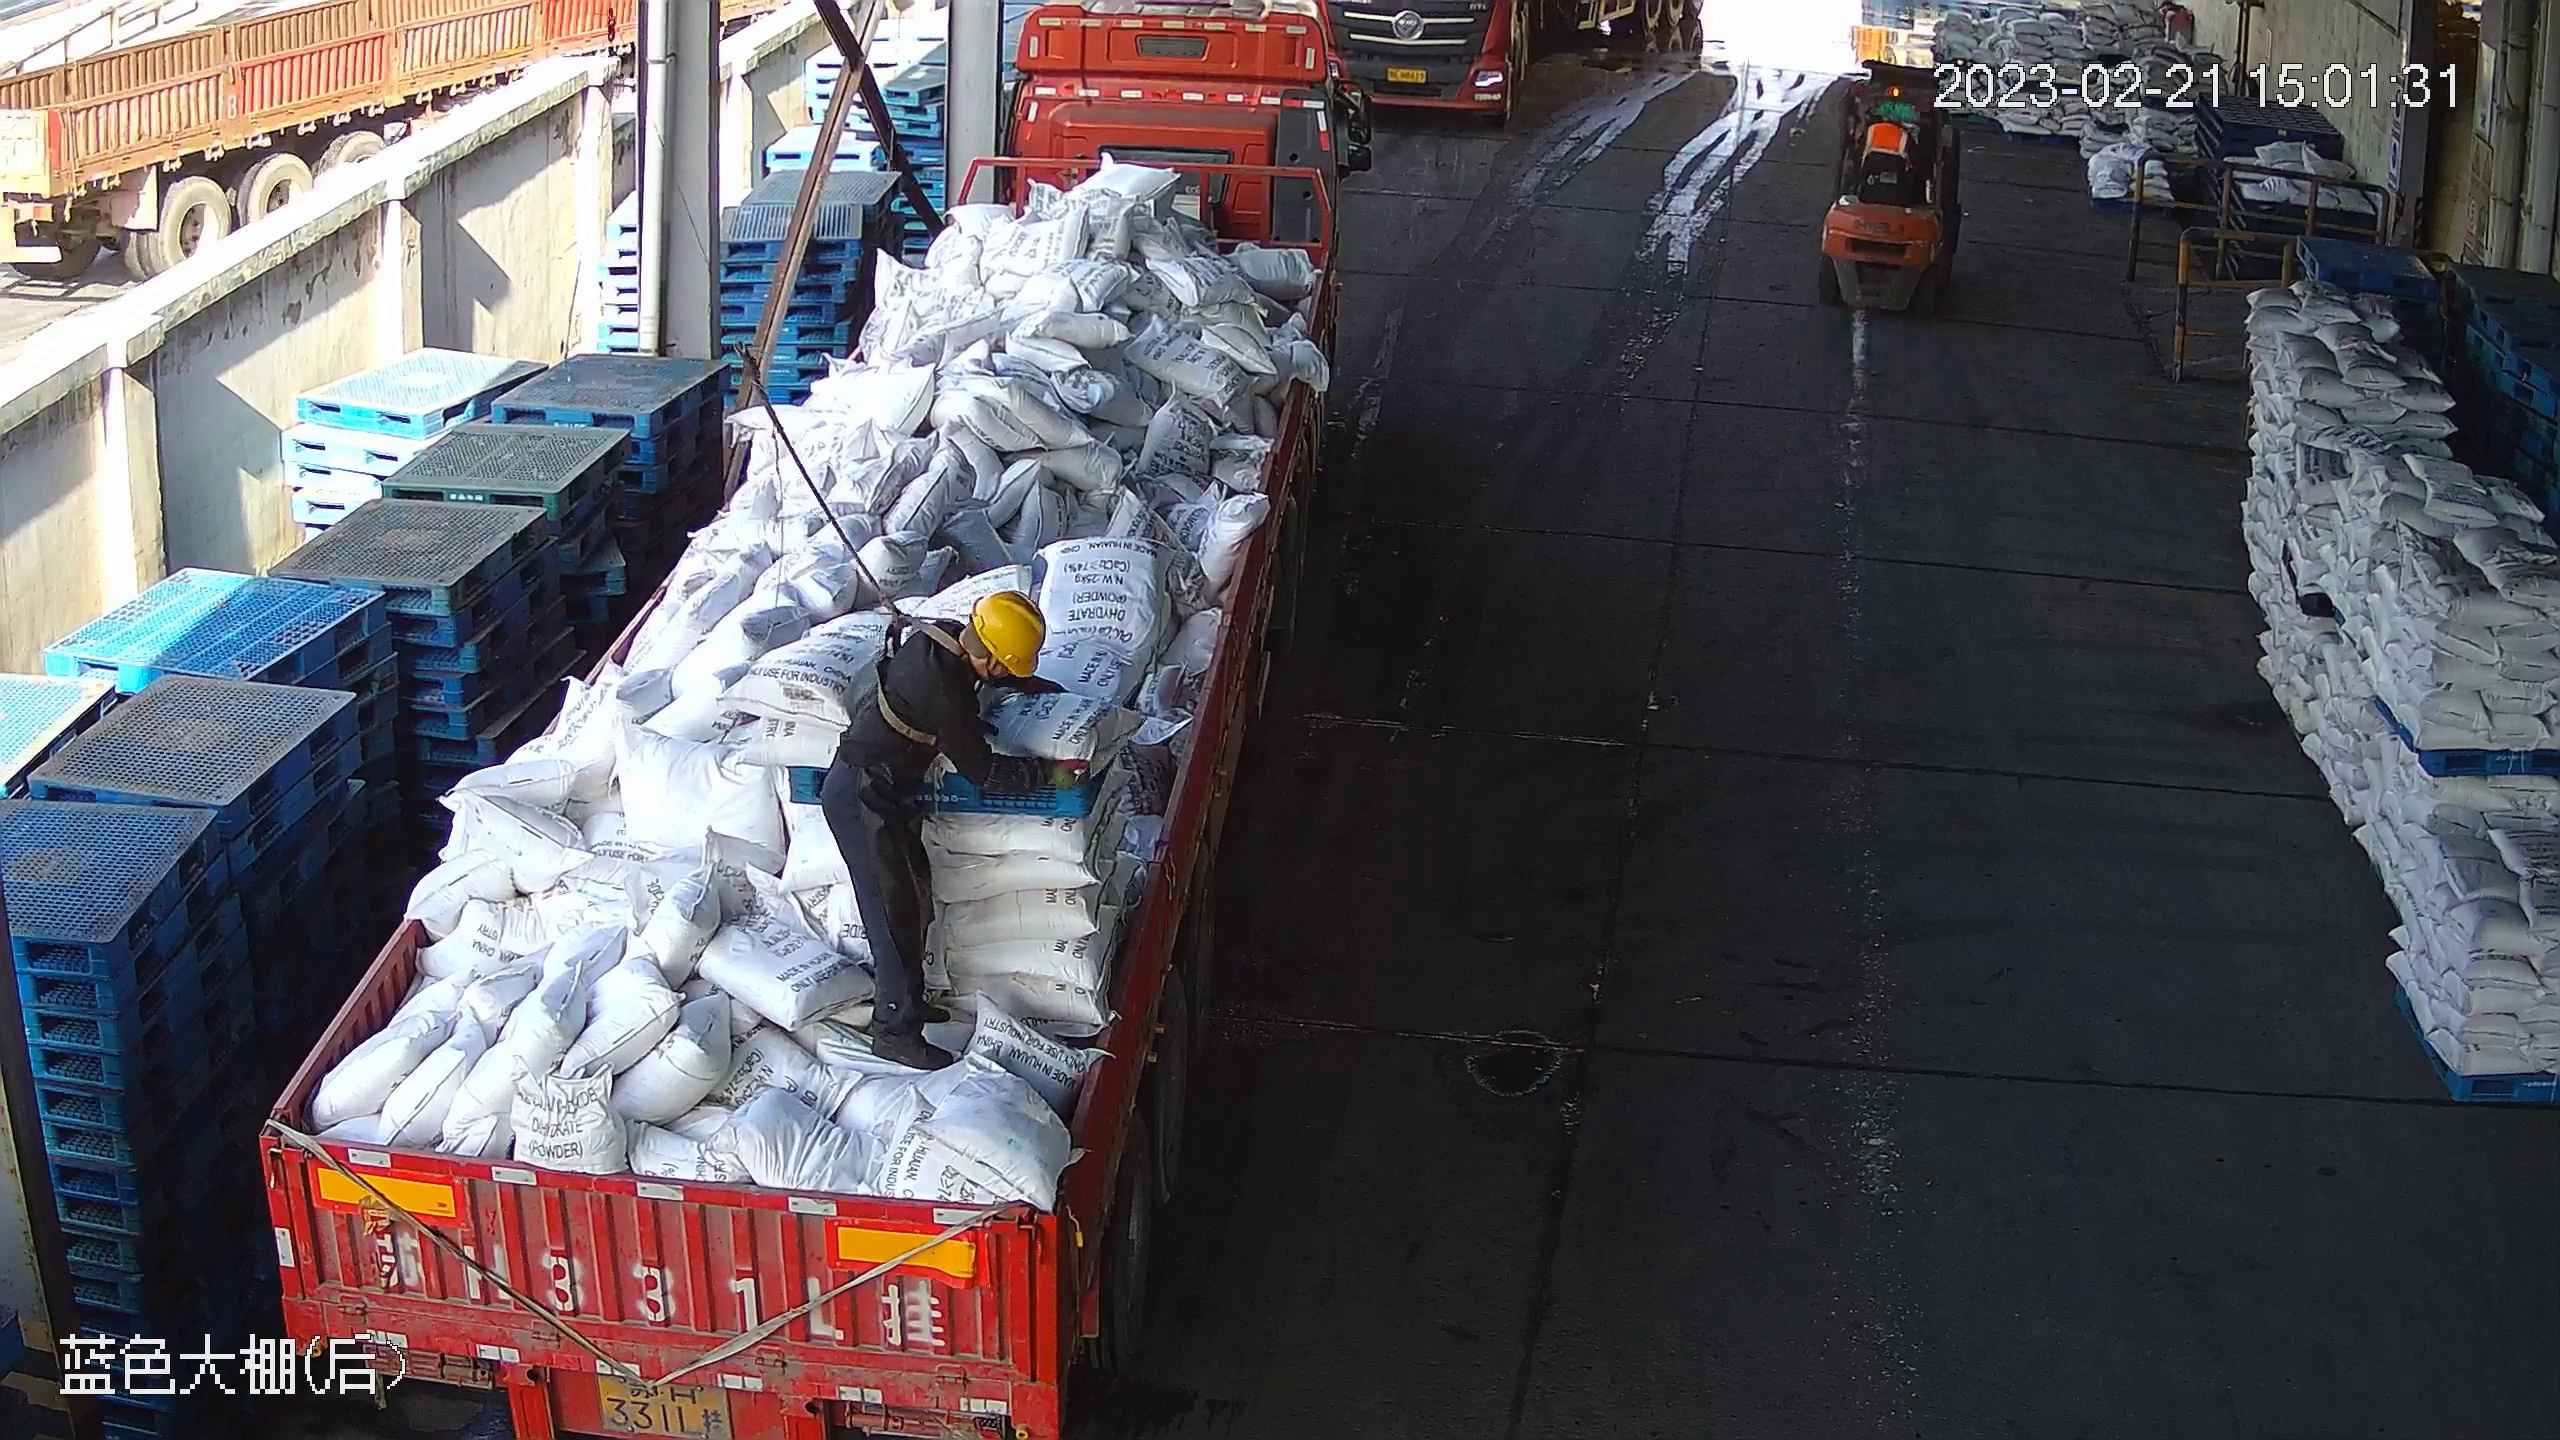belt: (864, 607, 983, 757)
head: (875, 579, 1046, 747)
helmet: (973, 584, 1042, 686)
people: (823, 575, 1061, 1064)
truck: (250, 1, 1340, 1431), (1335, 1, 1522, 114)
